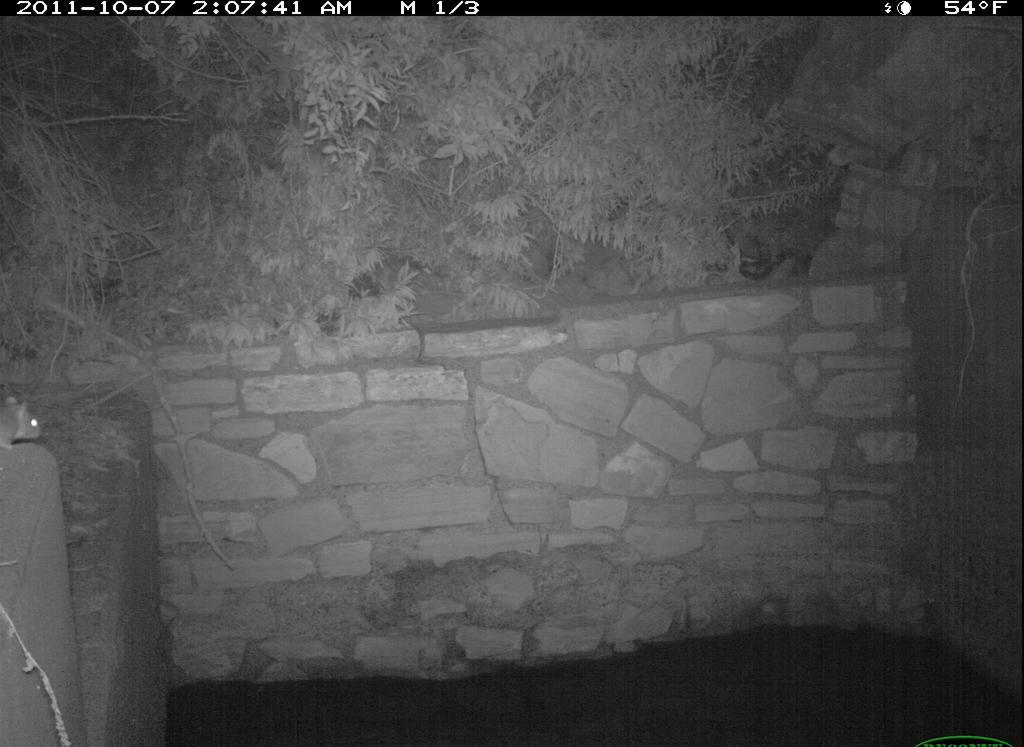rodent: (2, 382, 50, 463)
